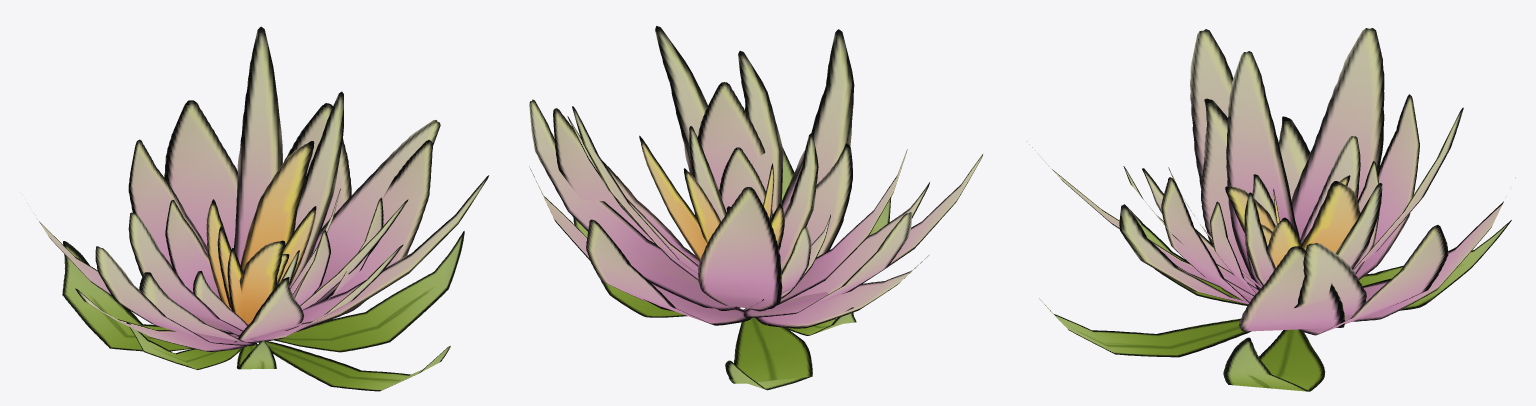
The model's file is Moonset_FBX_lotus_01.fbx.
3 views of the same model, side by side, from view 1: azimuth 30°, elevation 25°; view 2: azimuth 150°, elevation 25°; view 3: azimuth 270°, elevation 25° (orthographic). The views are drawn at different scales.
Parts seen in each view (by area): view 1: Lotus_1; view 2: Lotus_1; view 3: Lotus_1.
Boxes of the visible parts, <box> form: Lotus_1: <box>27,26,488,391</box>; Lotus_1: <box>529,26,982,390</box>; Lotus_1: <box>1029,28,1515,391</box>.
Bounding box in the file's own units: 1.16 × 0.7176 × 1.15.
